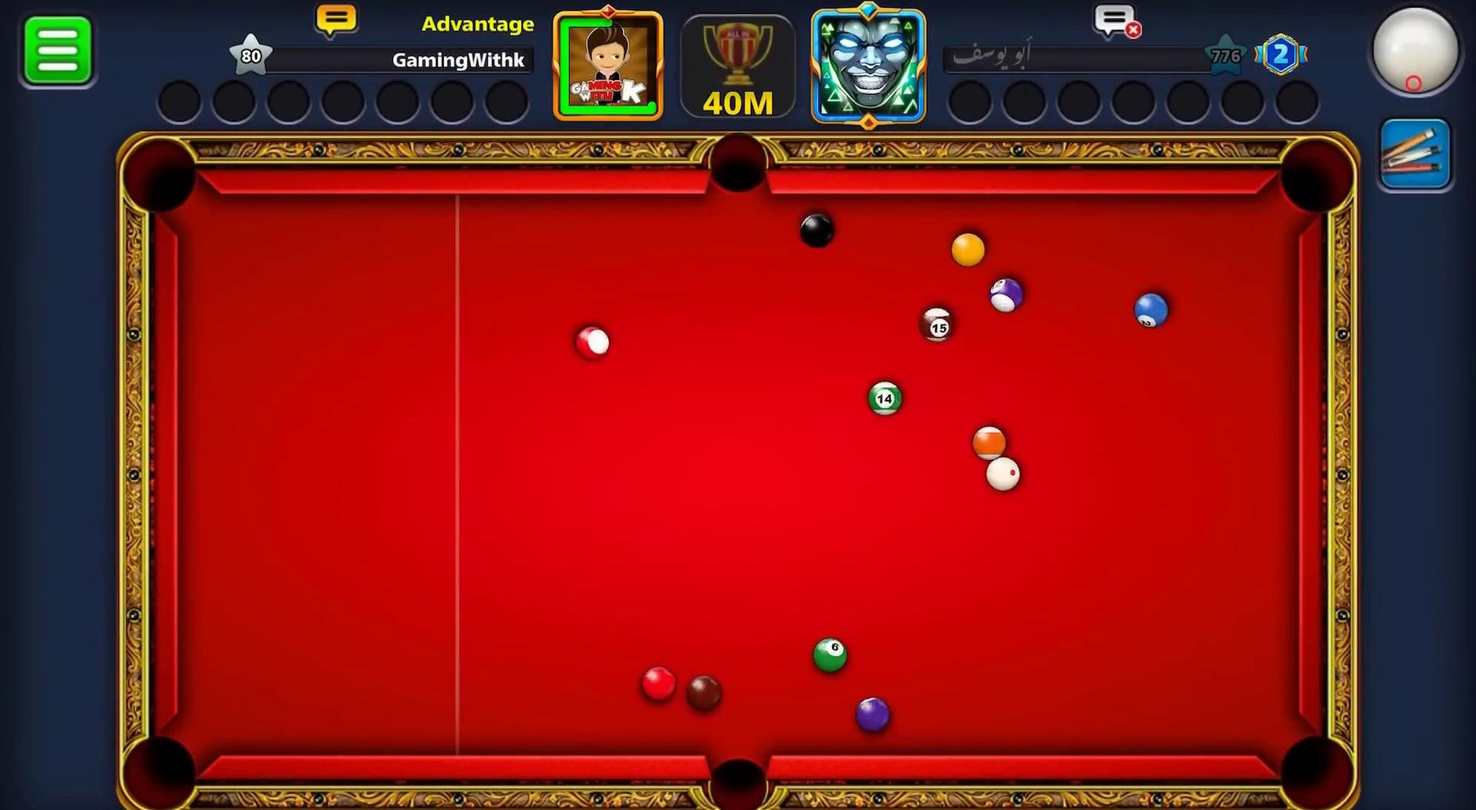Ball: (850, 693, 896, 738), (631, 662, 679, 705), (808, 635, 851, 676), (683, 672, 725, 713), (1133, 288, 1172, 329), (573, 322, 610, 360), (988, 276, 1025, 313), (799, 211, 835, 248), (920, 305, 955, 342), (950, 232, 985, 268), (973, 425, 1008, 460), (868, 380, 901, 415)
Hole: (1258, 718, 1369, 809), (1278, 134, 1355, 222), (689, 742, 785, 809), (122, 135, 199, 214), (122, 733, 198, 808), (707, 132, 768, 193)
Play_Area: (178, 193, 1298, 759)
Spin: (1361, 0, 1474, 111)
White: (983, 455, 1023, 494)
